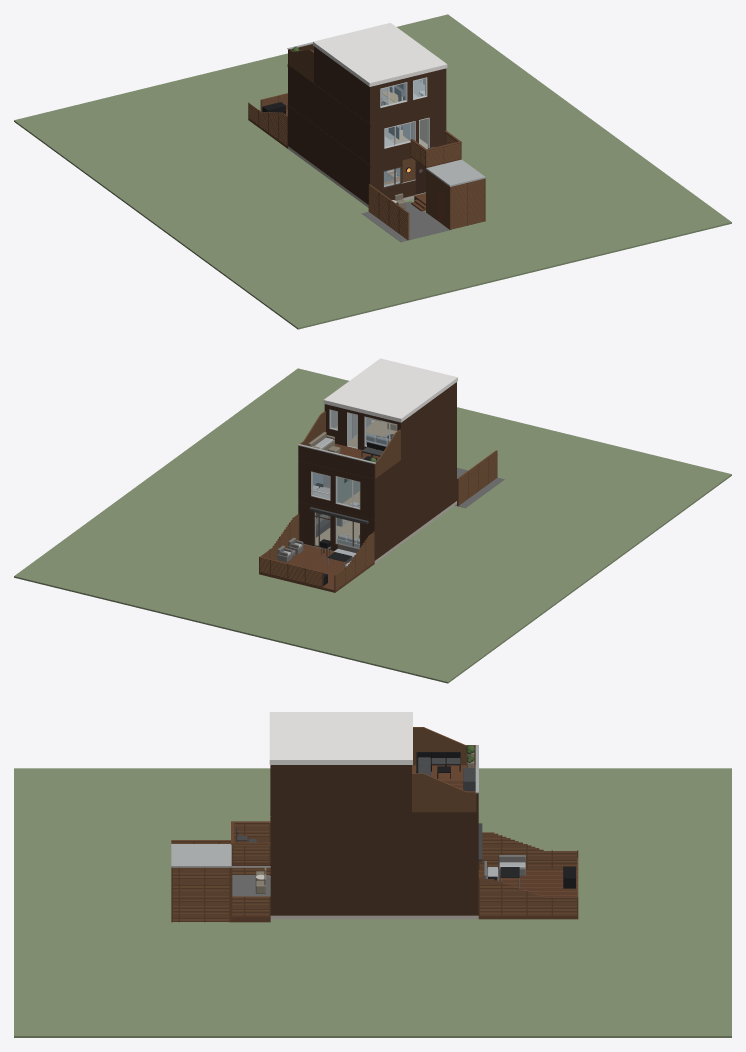
File: huldervegen.glb
3 views of the same model, one above another, from view 1: azimuth 30°, elevation 25°; view 2: azimuth 150°, elevation 25°; view 3: azimuth 270°, elevation 25° (orthographic). The views are drawn at different scales.
Visible parts, largest first — view 1: gress, kledning (×6), tak, asfalt, spiler (×2), porteTak, glass; view 2: gress, kledning (×6), tak, glass (×3), spiler; view 3: gress, kledning (×5), tak, spiler (×2), porteTak, grått, asfalt.
Part boxes in pixels (x1=…): gress: x1=14, y1=14, x2=731, y2=329; kledning (×6): x1=288, y1=46, x2=446, y2=204; tak: x1=313, y1=23, x2=447, y2=86; asfalt: x1=361, y1=201, x2=449, y2=242; spiler (×2): x1=288, y1=49, x2=437, y2=220; porteTak: x1=426, y1=159, x2=485, y2=186; glass: x1=385, y1=122, x2=414, y2=147; gress: x1=14, y1=368, x2=731, y2=683; kledning (×6): x1=298, y1=383, x2=455, y2=560; tak: x1=323, y1=358, x2=457, y2=422; glass (×3): x1=335, y1=417, x2=396, y2=547; spiler: x1=375, y1=429, x2=400, y2=478; gress: x1=14, y1=768, x2=731, y2=1037; kledning (×5): x1=270, y1=765, x2=478, y2=915; tak: x1=269, y1=712, x2=412, y2=764; spiler (×2): x1=412, y1=727, x2=476, y2=812; porteTak: x1=171, y1=844, x2=232, y2=867; grått: x1=270, y1=915, x2=478, y2=919; asfalt: x1=232, y1=875, x2=270, y2=896.
Bounding box in the file's own units: 30 × 8.6 × 34.
